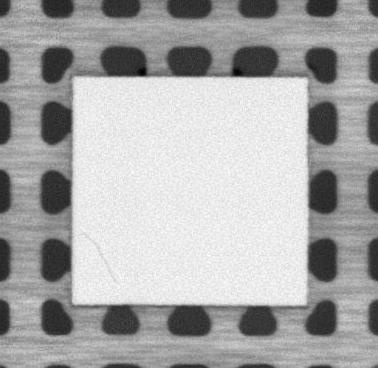DIE_CRACK: (82, 232, 119, 285)
